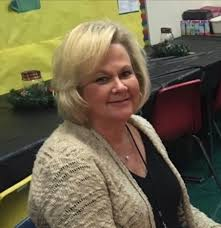white_female: (67, 46, 144, 118)
